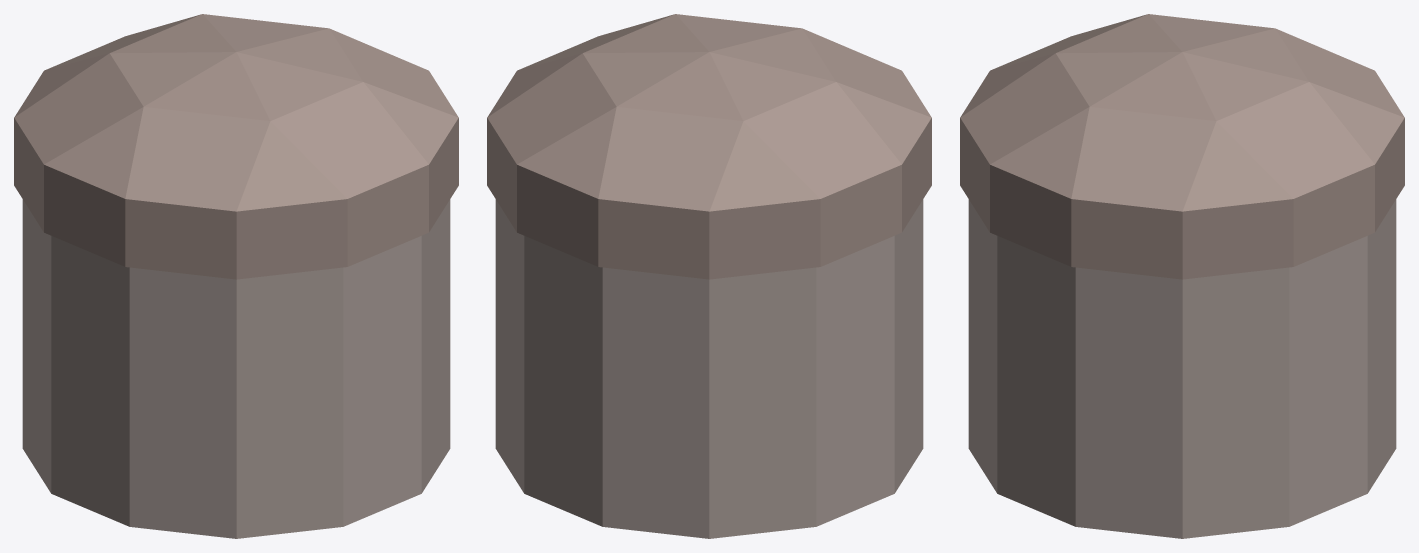
File: prop_basket.glb
3 renders of one model, left to right at view 1: azimuth 30°, elevation 25°; view 2: azimuth 150°, elevation 25°; view 3: azimuth 270°, elevation 25°, orthographic.
Parts seen in each view (by area): view 1: prop_basket; view 2: prop_basket; view 3: prop_basket.
Part boxes in pixels (x1=…): prop_basket: x1=14, y1=14, x2=458, y2=538; prop_basket: x1=487, y1=14, x2=931, y2=538; prop_basket: x1=960, y1=14, x2=1404, y2=538.
Bounding box in the file's own units: 0.3466 × 0.3411 × 0.3466.
